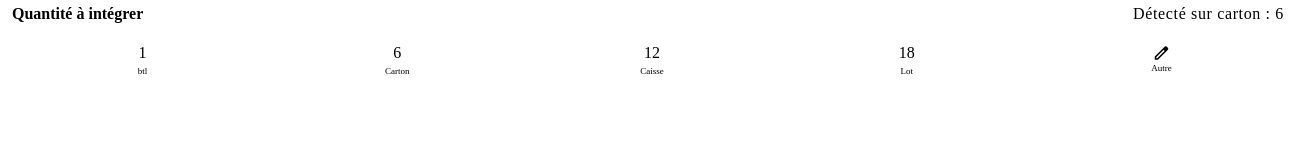
commits a clamped value on blur when the free field is invalid
This screenshot has width=1292, height=160.
Click the button "Autre".
click(1162, 60)  # box top-left (1037, 34), bottom-right (1286, 86)
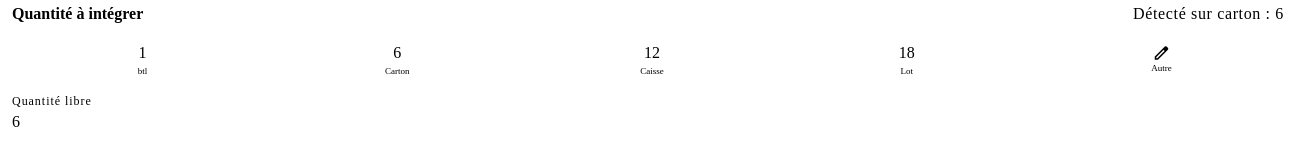
Replace the text in the number field labelled "Quantité libre" with "0" at (112, 122), box top-left (12, 110), bottom-right (212, 134)
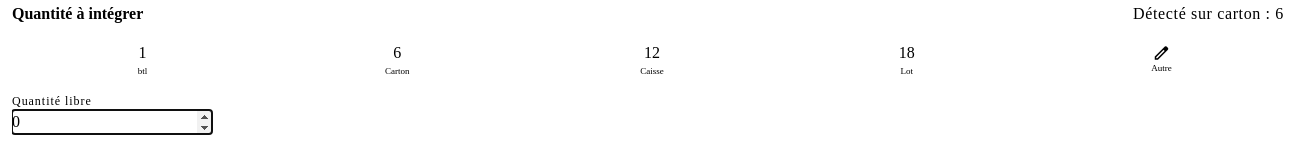
Press Tab
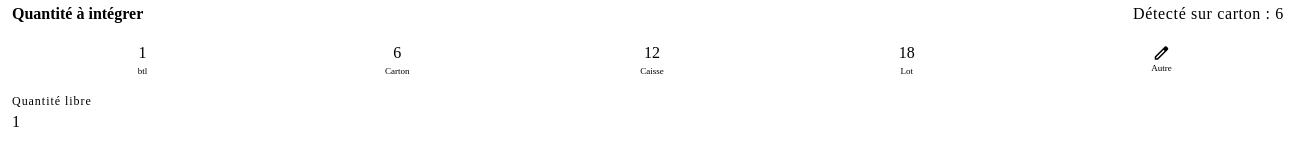
Result: the number field labelled "Quantité libre" holds "1" at top-left (12, 110), bottom-right (212, 134)
